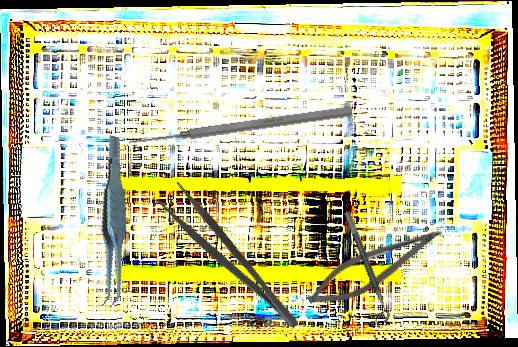Dressing Forceps: (155, 179, 303, 342)
Fixation Ring: (334, 210, 393, 327)
Micro Scissor: (300, 210, 449, 321)
Pusher: (128, 103, 353, 150)
Tissue Forceps: (67, 134, 159, 311)
